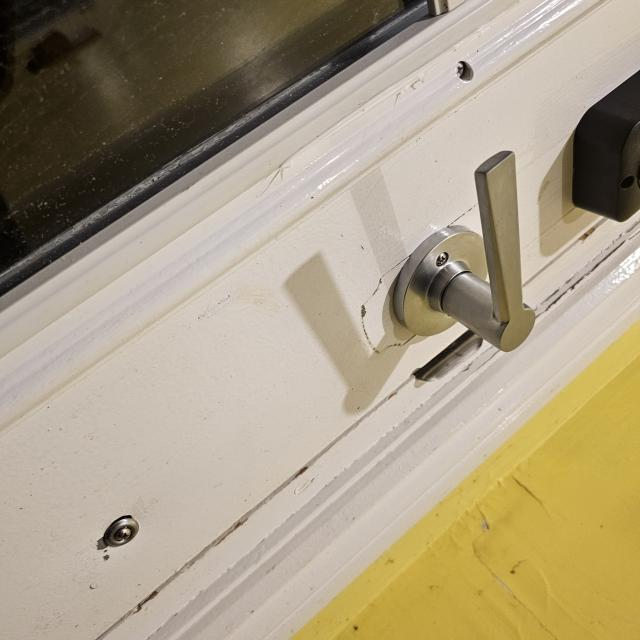door-handle: (392, 151, 535, 351)
